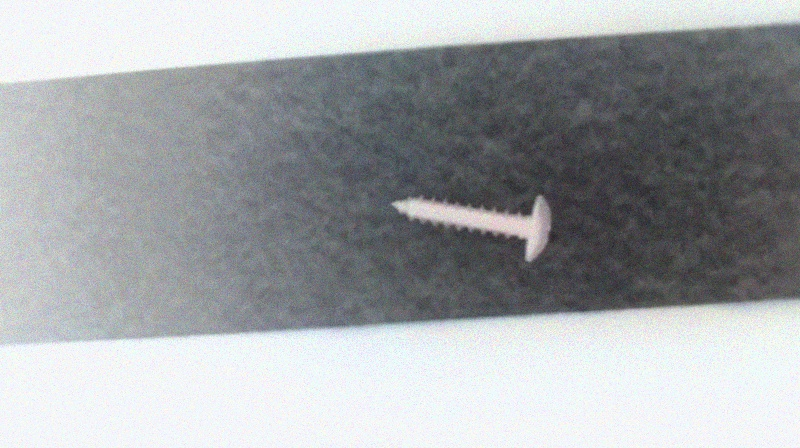S003: (389, 191, 554, 264)
